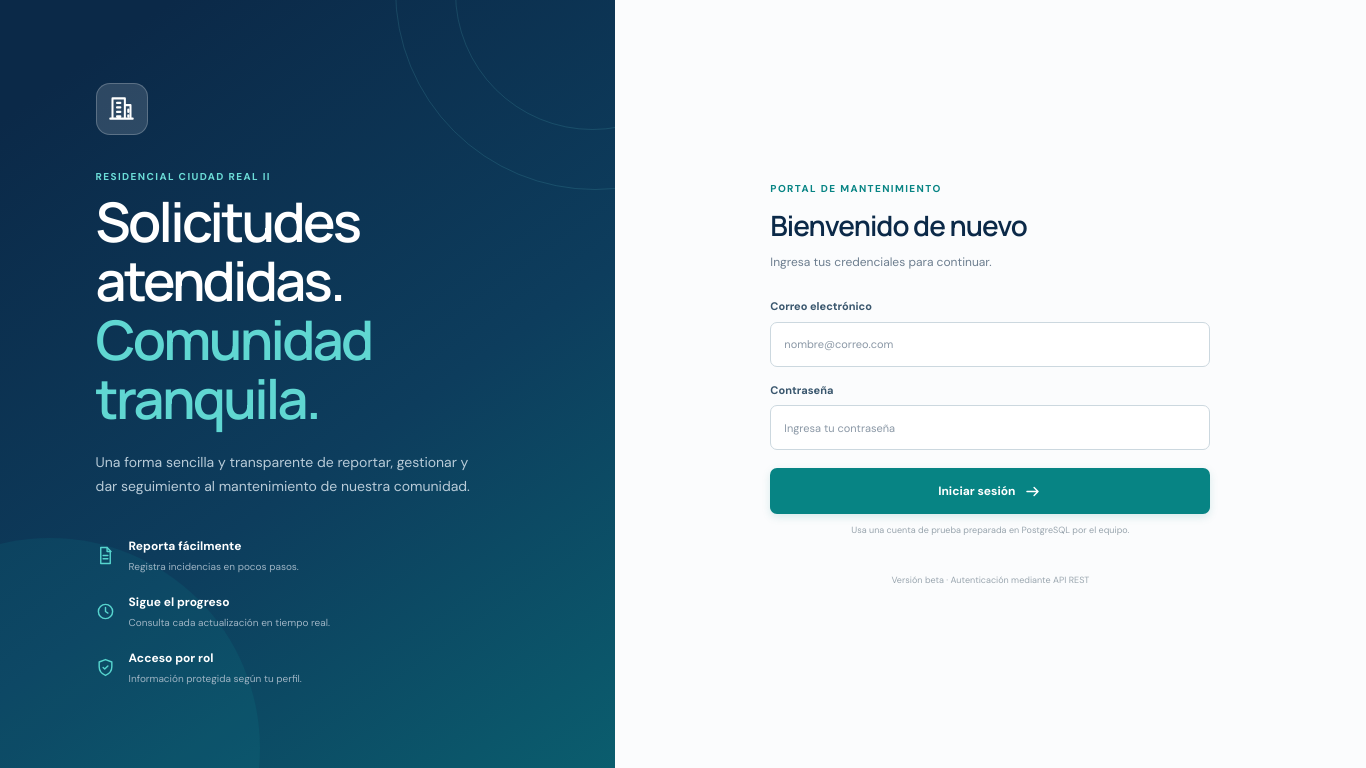
muestra credenciales inválidas sin entrar al panel
The image size is (1366, 768).
Expected: the button "Iniciar sesión" is shown, x1=770 y1=468 x2=1210 y2=514
Type "residente@cr2.do" into the field labelled "Correo electrónico" at (990, 344), box x1=770 y1=322 x2=1210 y2=366
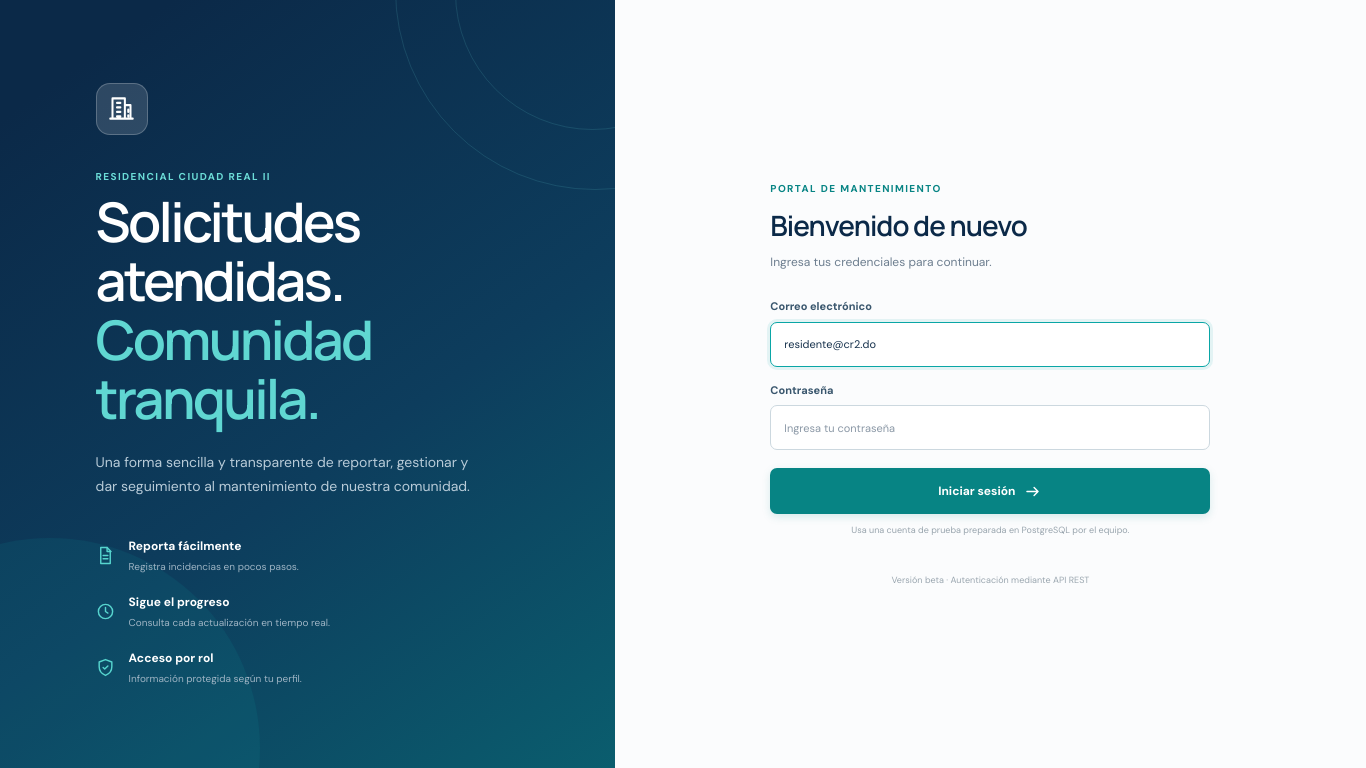
Type "demo123" into the password field labelled "Contraseña" at (990, 428), box x1=770 y1=405 x2=1210 y2=450
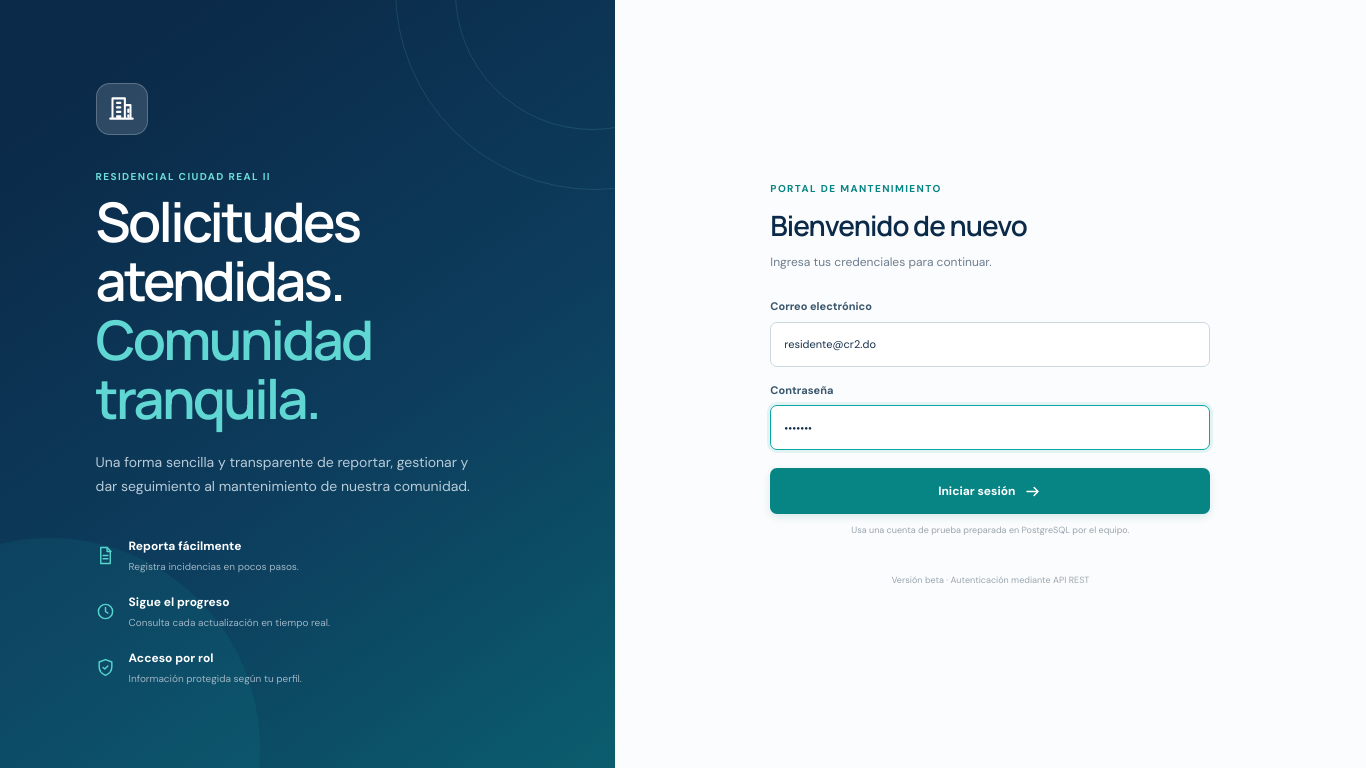
Click the button "Iniciar sesión" at (990, 491), box x1=770 y1=468 x2=1210 y2=514
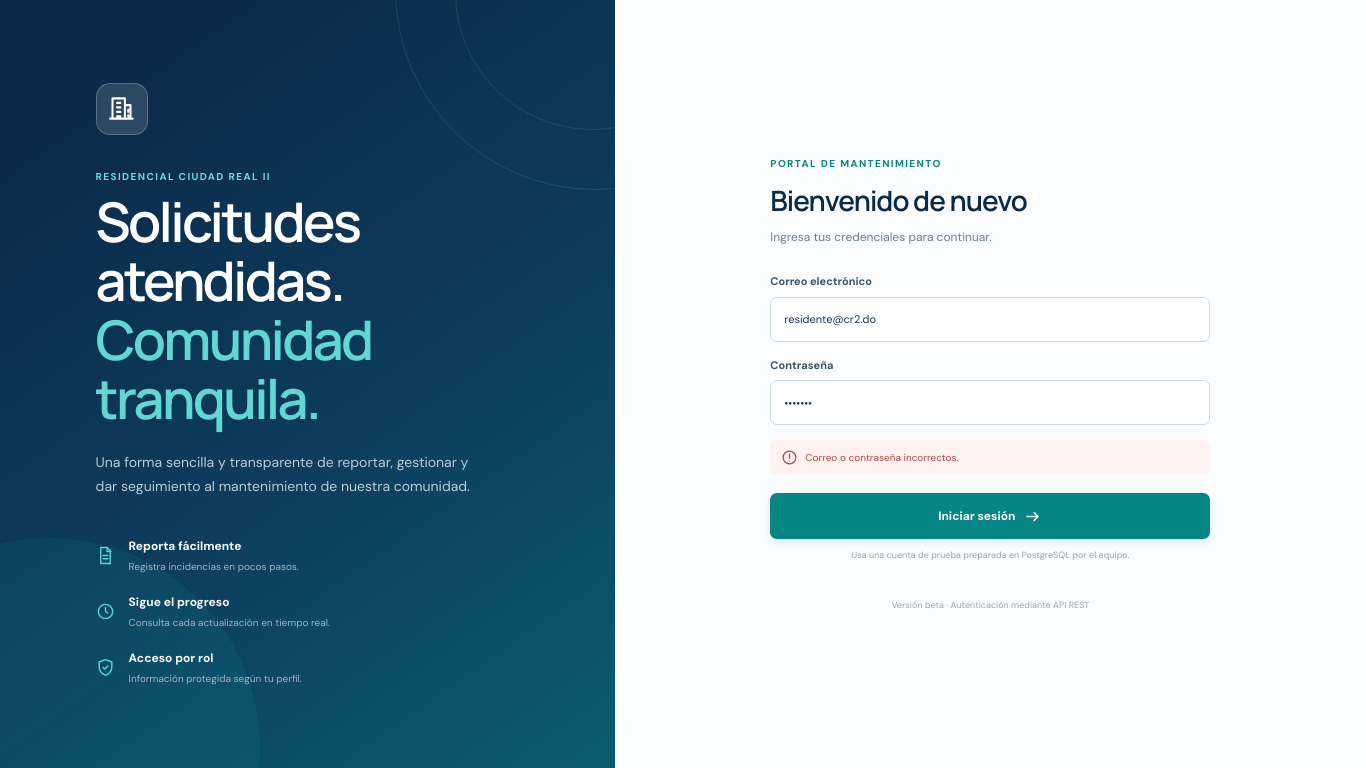
Result: the message reads "Correo o contraseña incorrectos." at x1=805 y1=451 x2=958 y2=464
